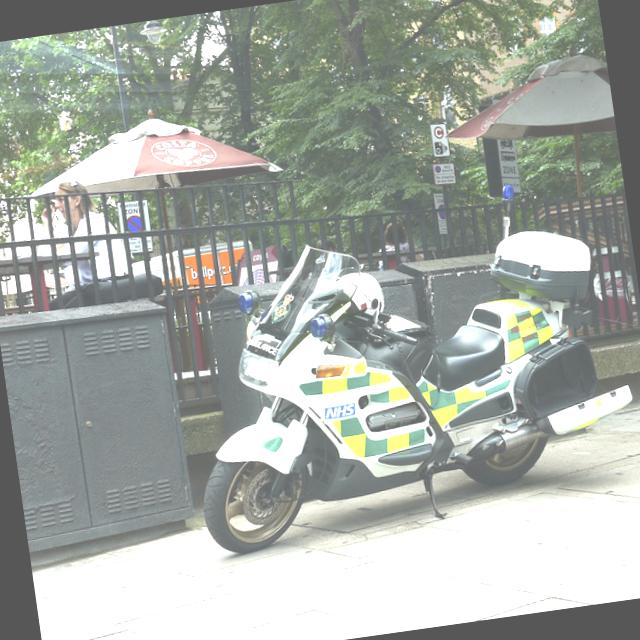Vehicle: (170, 204, 640, 558)
